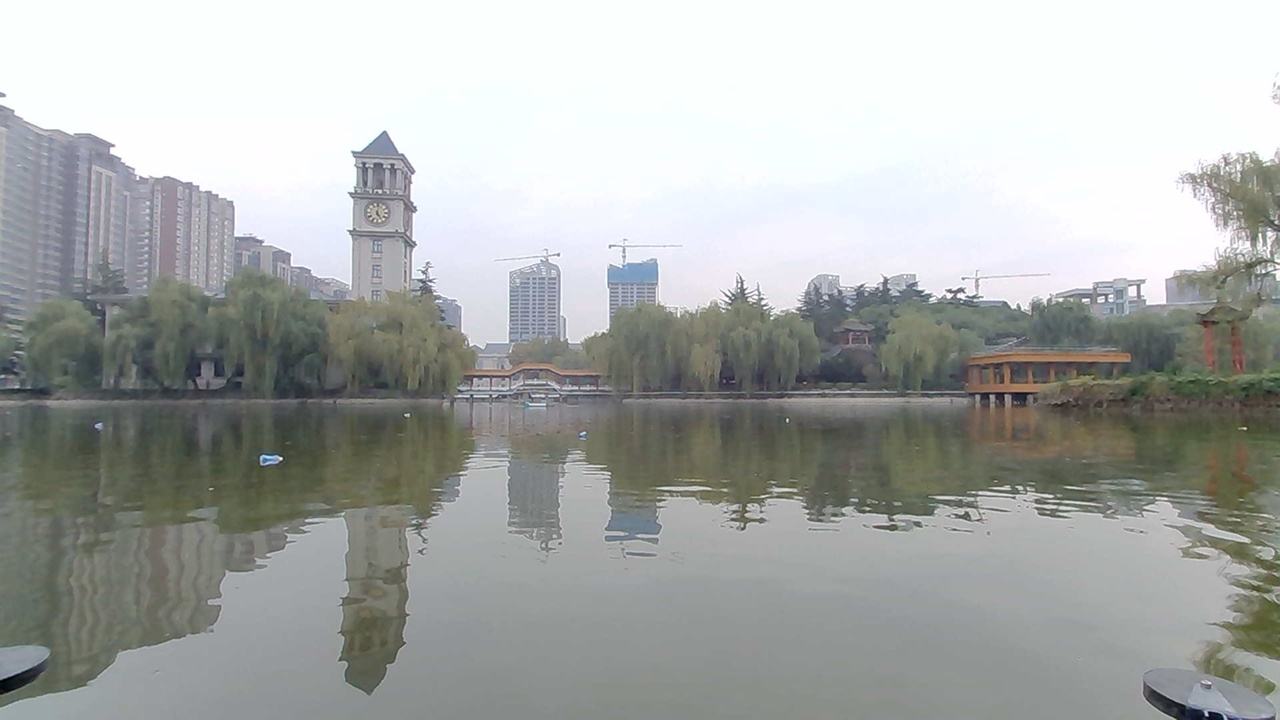bottle: (565, 420, 599, 447), (87, 411, 125, 435), (774, 408, 804, 434), (252, 449, 289, 470), (393, 402, 422, 424)
